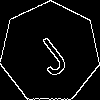J: (25, 27, 72, 79)
